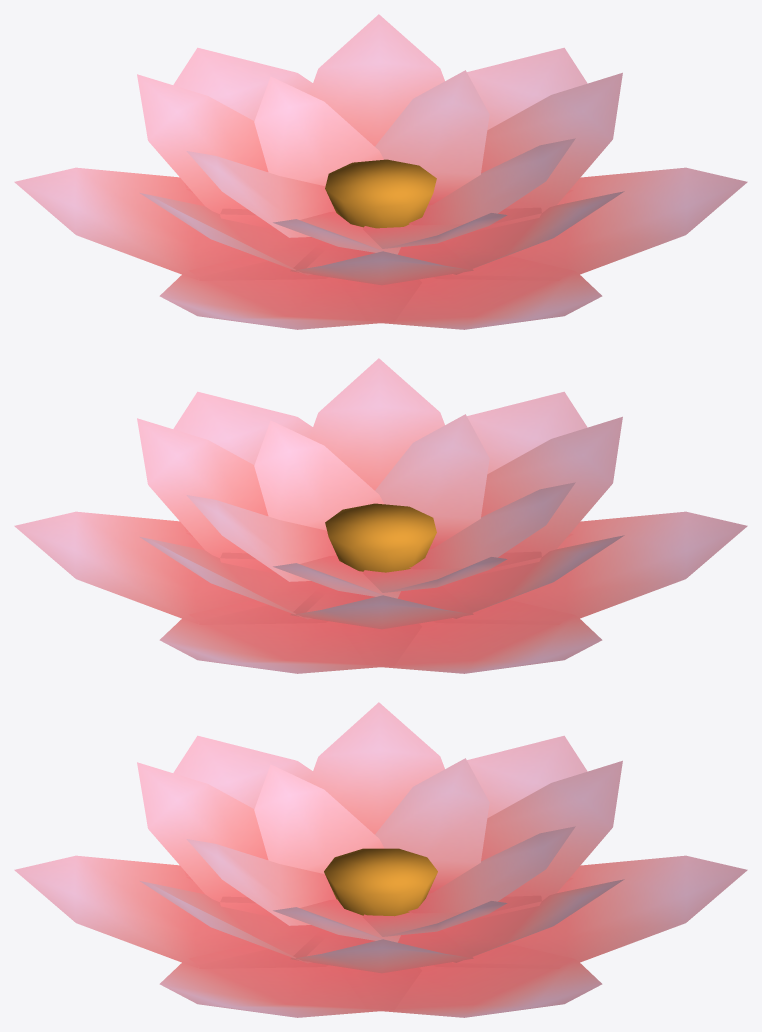
File: Lotus-2.fbx
3 renders of one model, top to bottom at view 1: azimuth 30°, elevation 25°; view 2: azimuth 150°, elevation 25°; view 3: azimuth 270°, elevation 25°, orthographic.
Visible parts, largest first — view 1: Lotus; view 2: Lotus; view 3: Lotus.
Boxes of the visible parts, box(x1,y1,x2,y2) form: Lotus: box(14, 14, 747, 329); Lotus: box(14, 358, 747, 673); Lotus: box(14, 702, 747, 1017).
Bounding box in the file's own units: 5 × 1.02 × 5.78.
